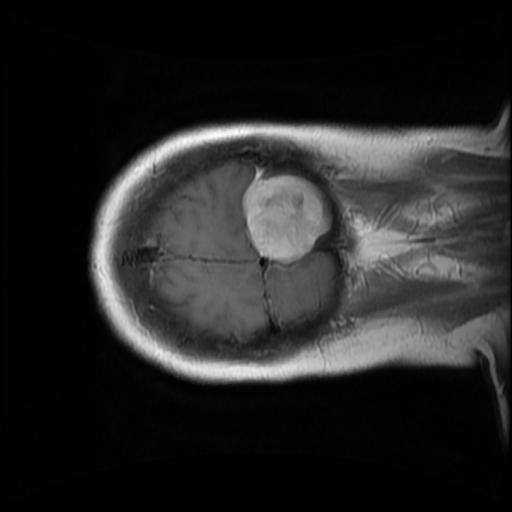meningioma: (240, 163, 332, 266)
